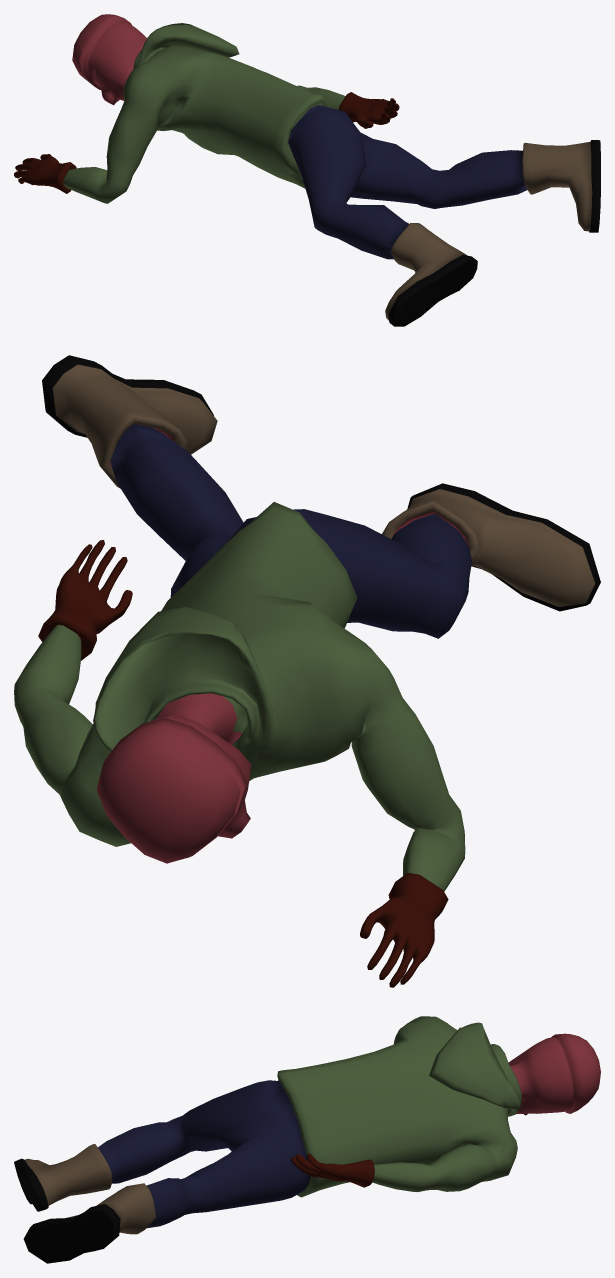
Rendered from victim01.dae.
The picture shows the model from 3 angles, top to bottom: view 1: azimuth 30°, elevation 25°; view 2: azimuth 150°, elevation 25°; view 3: azimuth 270°, elevation 25°; orthographic projection. The views are drawn at different scales.
Parts seen in each view (by area): view 1: Man; view 2: Man; view 3: Man.
Part boxes in pixels (box(x1,y1,x2,y2)): Man: box(14, 14, 600, 326); Man: box(14, 355, 600, 987); Man: box(14, 1016, 600, 1263).
Size of the model in its own units: 0.9567 by 1.17 by 0.3513.
